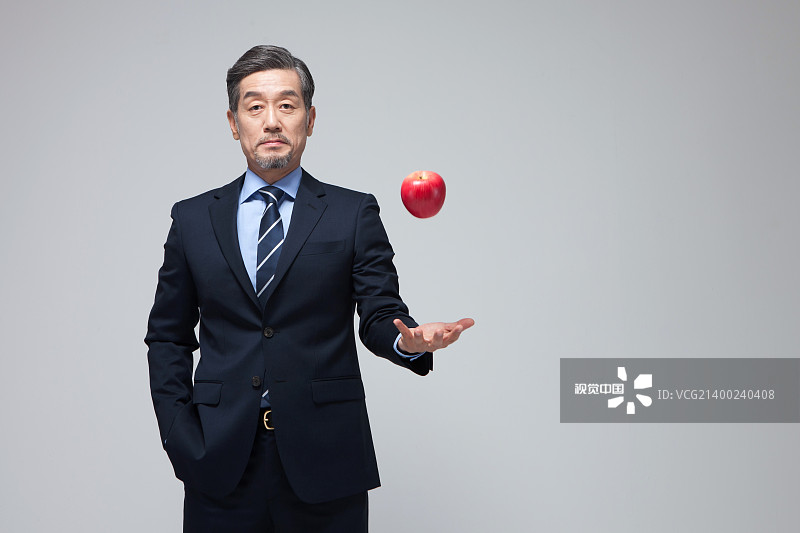no-phone: (381, 304, 486, 371)
